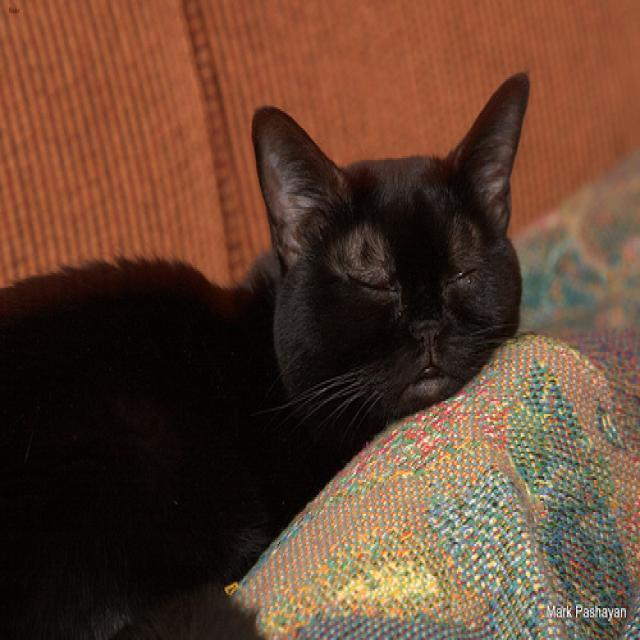Bombay: (243, 60, 541, 428)
